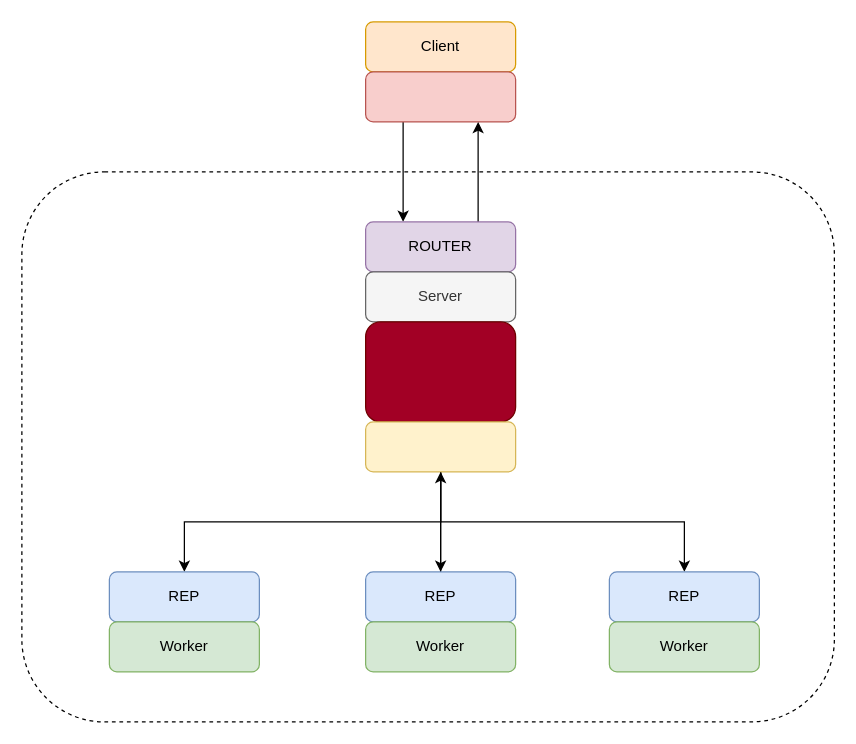
This 856x744 diagram has some shape labels left out. The box of each missing label's shape, as (x1, y1, x2, y2) in pixels:
DEALER: (364, 421, 516, 472)
Queue Proxy: (364, 321, 516, 422)
REQ: (364, 71, 516, 122)
